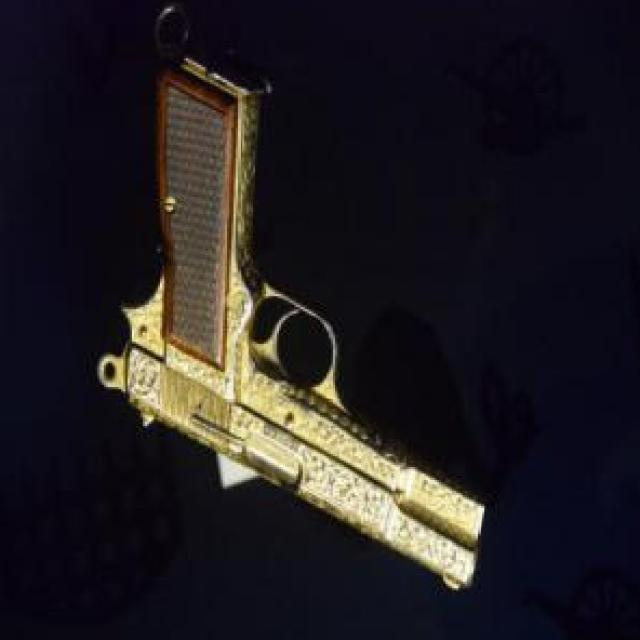pistol: (87, 53, 481, 599)
